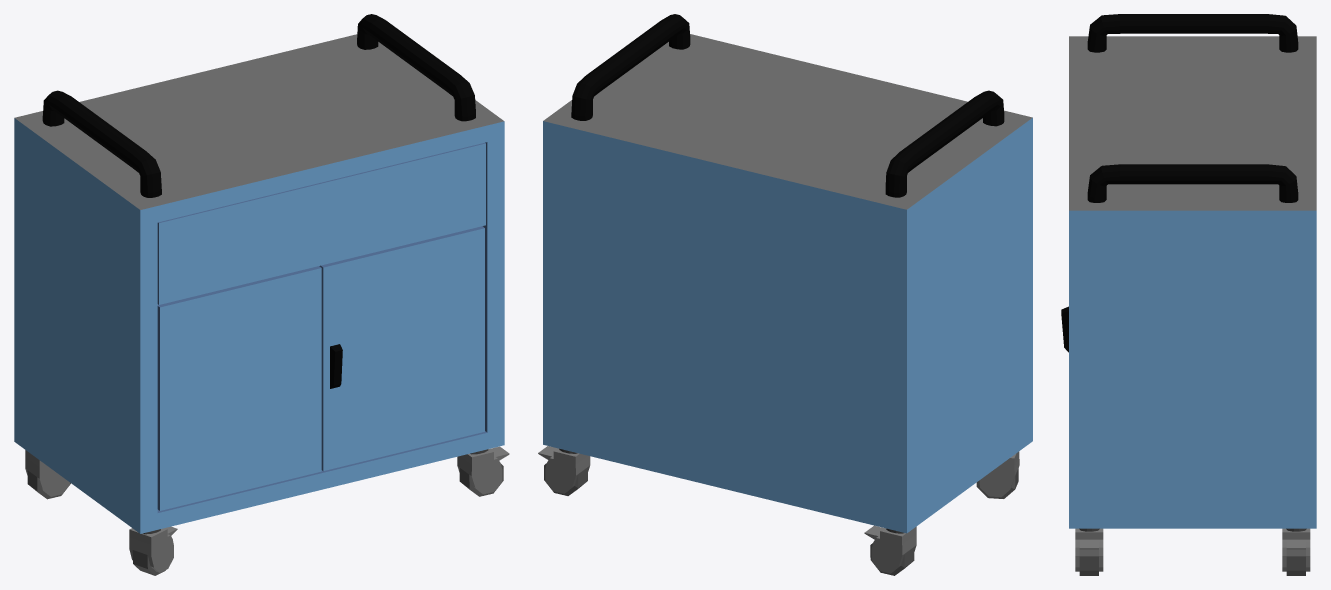
Rendered from CarritoFinal.fbx.
3 renders of one model, left to right at view 1: azimuth 30°, elevation 25°; view 2: azimuth 150°, elevation 25°; view 3: azimuth 270°, elevation 25°, orthographic.
Parts seen in each view (by area): view 1: Rueda.002; view 2: Rueda.002; view 3: Rueda.002.
Part boxes in pixels (bbox=[...]): Rueda.002: bbox=[14, 14, 509, 575]; Rueda.002: bbox=[538, 14, 1032, 575]; Rueda.002: bbox=[1061, 14, 1316, 575].
Bounding box in the file's own units: 103 × 107 × 61.92.
